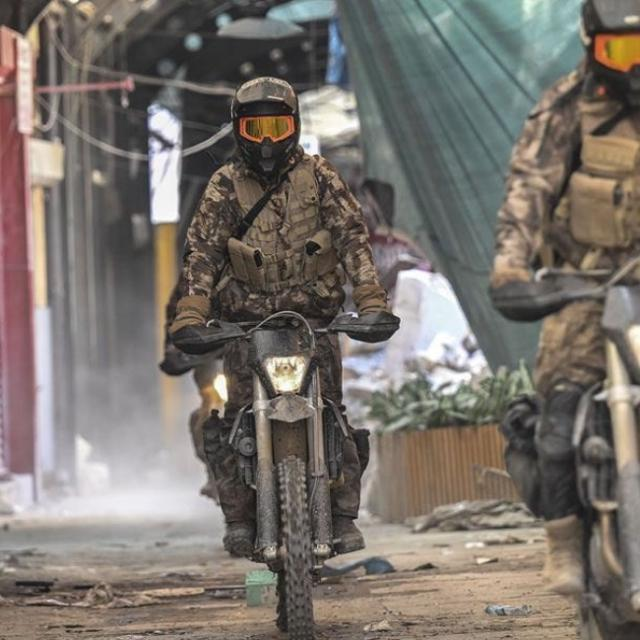poh_personel: (173, 75, 390, 564), (485, 0, 639, 608)
